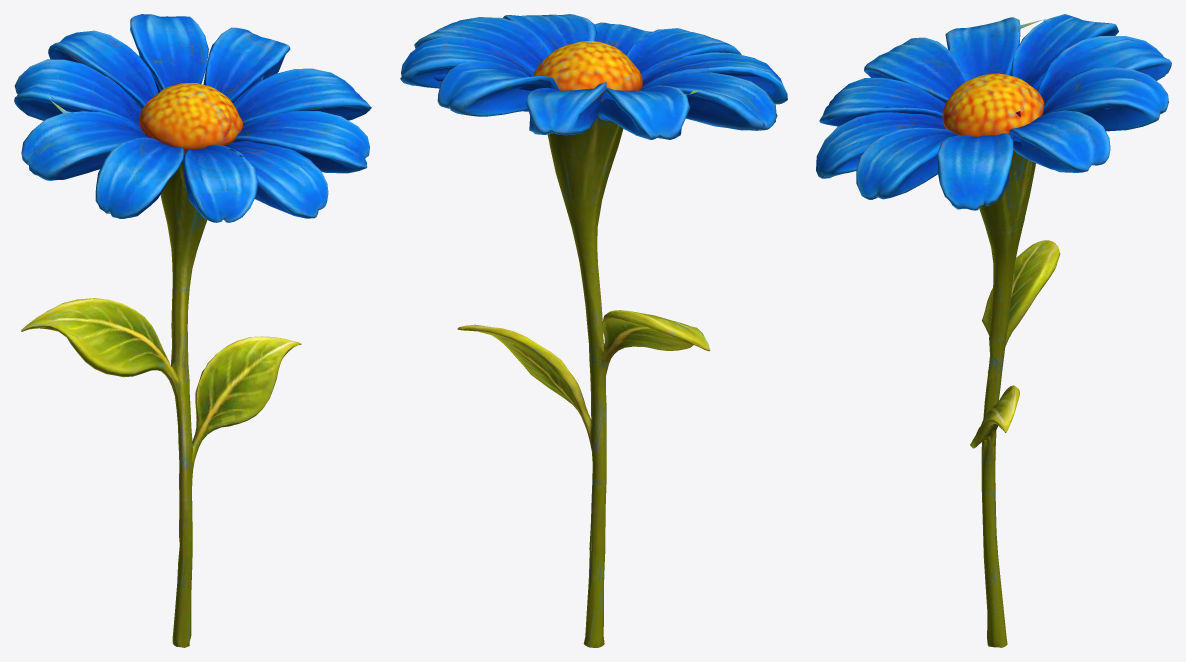
The model's file is daisy_blue.glb.
3 renders of one model, left to right at view 1: azimuth 30°, elevation 25°; view 2: azimuth 150°, elevation 25°; view 3: azimuth 270°, elevation 25°, orthographic. The views are drawn at different scales.
Parts seen in each view (by area): view 1: geometry_0; view 2: geometry_0; view 3: geometry_0.
Boxes of the visible parts, x1,y1,x2,y2 form: geometry_0: [14, 14, 371, 647]; geometry_0: [400, 14, 787, 647]; geometry_0: [816, 14, 1171, 647].
Bounding box in the file's own units: 0.5762 × 0.9526 × 0.5264.
Materials: 1 (1 with a texture image).
